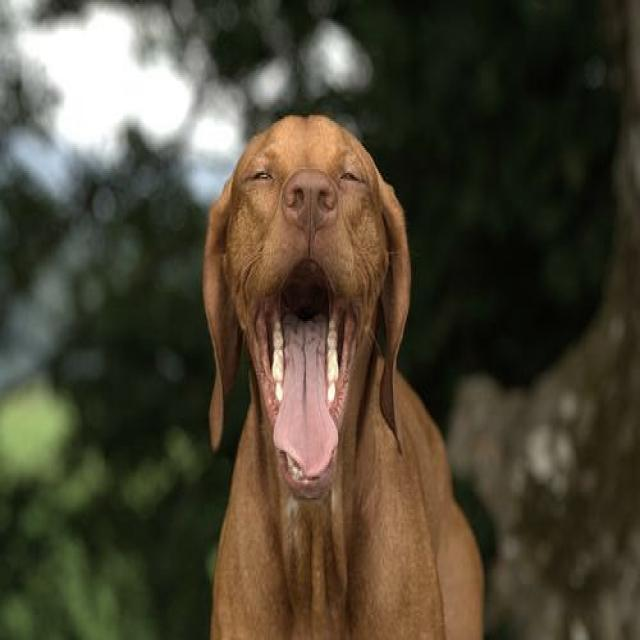vizsla: (200, 110, 482, 638)
